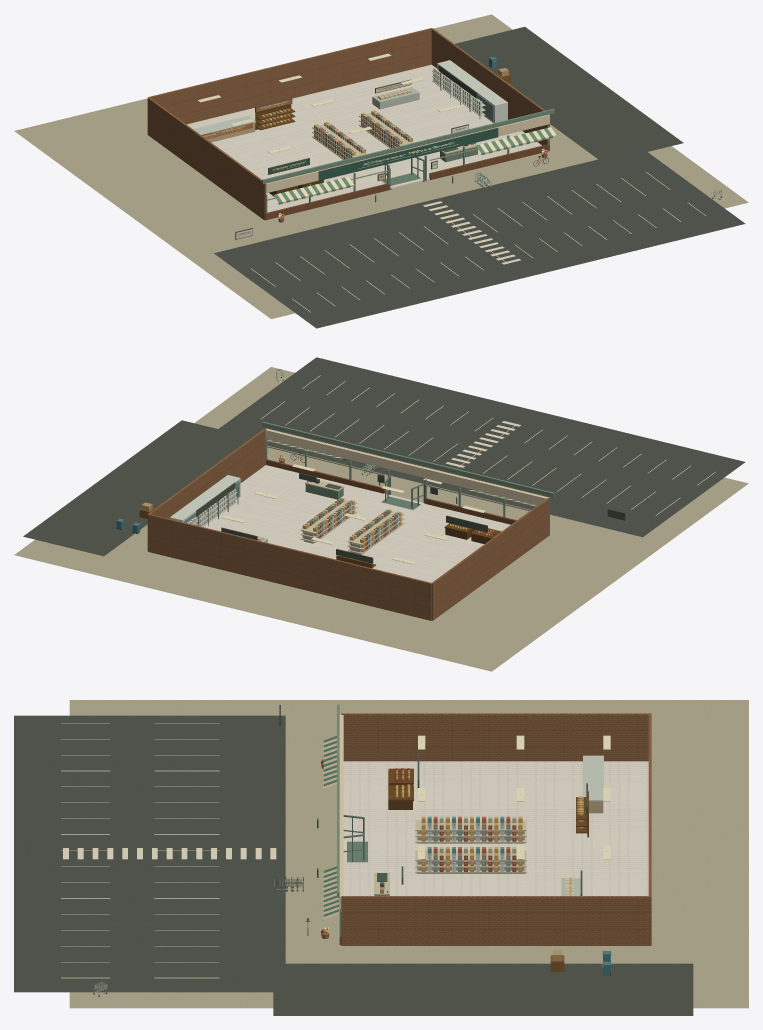
Rendered from small-morning-clover-market-v1.glb.
The picture shows the model from 3 angles, top to bottom: view 1: azimuth 30°, elevation 25°; view 2: azimuth 150°, elevation 25°; view 3: azimuth 270°, elevation 25°; orthographic projection. The views are drawn at different scales.
Parts seen in each view (by area): view 1: asphalt, concrete, brick, plain, tiles, market, wood; view 2: asphalt, concrete, brick, plain, tiles, wood; view 3: asphalt, concrete, tiles, brick, plain, wood, cereal, pasta.
Part boxes in pixels (box(x1,y1,x2,y2)): asphalt: box(214, 27, 745, 328); concrete: box(14, 14, 748, 318); brick: box(147, 28, 549, 220); plain: box(193, 53, 722, 312); tiles: box(187, 64, 541, 212); market: box(319, 128, 497, 179); wood: box(255, 73, 511, 196); asphalt: box(23, 357, 745, 556); concrete: box(14, 367, 748, 671); brick: box(147, 428, 549, 620); plain: box(116, 369, 715, 564); tiles: box(203, 465, 510, 582); wood: box(139, 508, 501, 568); asphalt: box(14, 715, 693, 1015); concrete: box(69, 700, 748, 1008); tiles: box(343, 761, 648, 895); brick: box(339, 713, 651, 945); plain: box(61, 704, 611, 996); wood: box(388, 768, 588, 971); cereal: box(421, 825, 522, 871); pasta: box(439, 825, 516, 871).
Bounding box in the file's own units: 60.5 × 4.98 × 59.5.
Materials: 19 (18 with a texture image).
